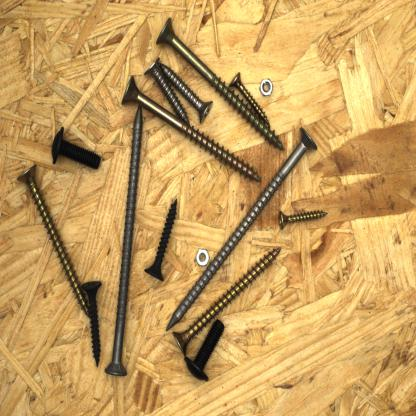screw: (163, 122, 320, 335), (154, 12, 288, 154), (119, 70, 266, 185), (170, 242, 283, 359), (14, 160, 95, 320), (102, 101, 145, 381), (159, 60, 216, 127), (145, 55, 193, 132), (142, 195, 180, 284), (180, 316, 228, 385), (48, 123, 106, 174), (227, 68, 273, 127), (78, 278, 105, 369), (276, 206, 329, 235)
